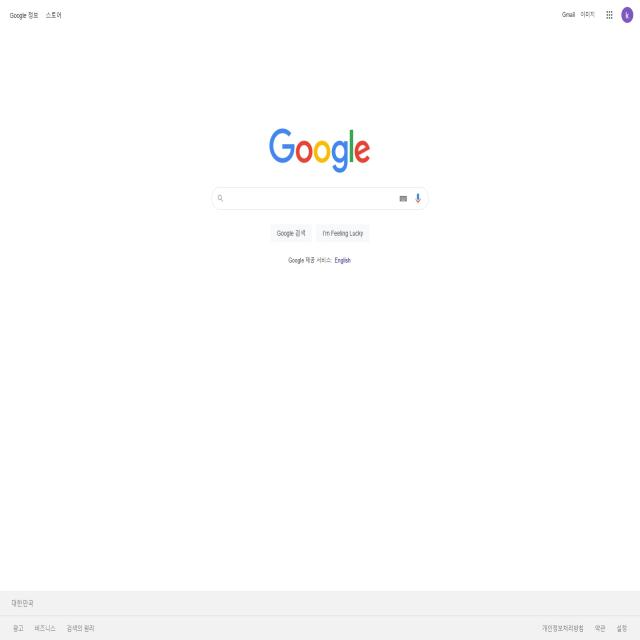menu-bar: (558, 1, 638, 28), (4, 1, 69, 28)
search: (209, 182, 432, 214)
